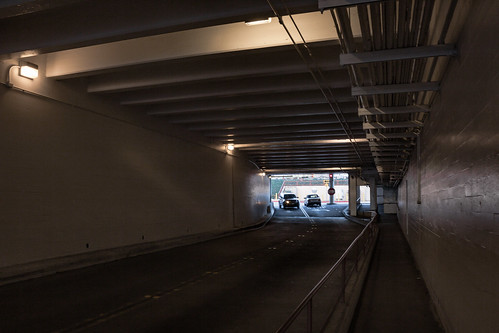car: (276, 191, 304, 211), (302, 193, 326, 210)
street: (22, 211, 355, 333)
tunnel: (64, 72, 433, 330)
